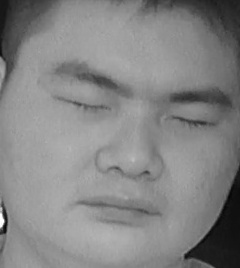blink: (61, 87, 109, 122), (169, 104, 215, 135)
mouth: (79, 181, 164, 230)
